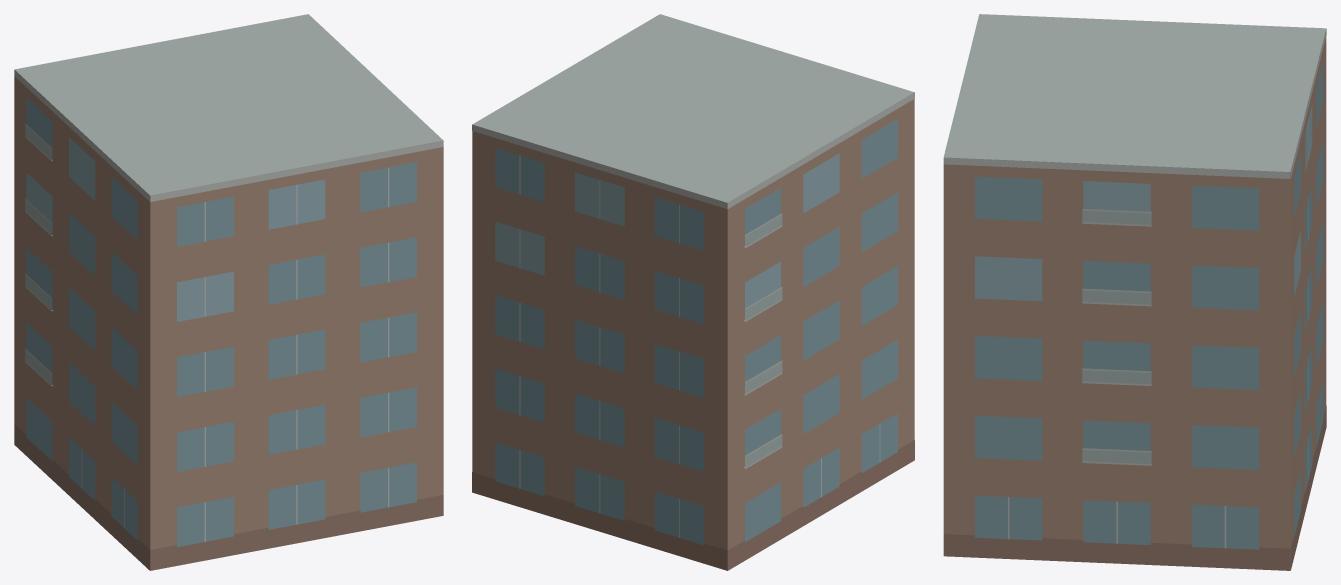
Rendered from survey-upis-32923077.glb.
The picture shows the model from 3 angles, left to right: view 1: azimuth 30°, elevation 25°; view 2: azimuth 150°, elevation 25°; view 3: azimuth 270°, elevation 25°; orthographic projection. The views are drawn at different scales.
Parts seen in each view (by area): view 1: survey-upis-32923077.tmp; view 2: survey-upis-32923077.tmp; view 3: survey-upis-32923077.tmp.
Part boxes in pixels (x1=…): survey-upis-32923077.tmp: x1=14, y1=14, x2=443, y2=570; survey-upis-32923077.tmp: x1=472, y1=14, x2=914, y2=570; survey-upis-32923077.tmp: x1=943, y1=14, x2=1326, y2=570.
Size of the model in its own units: 12 by 14.1 by 12.28.
